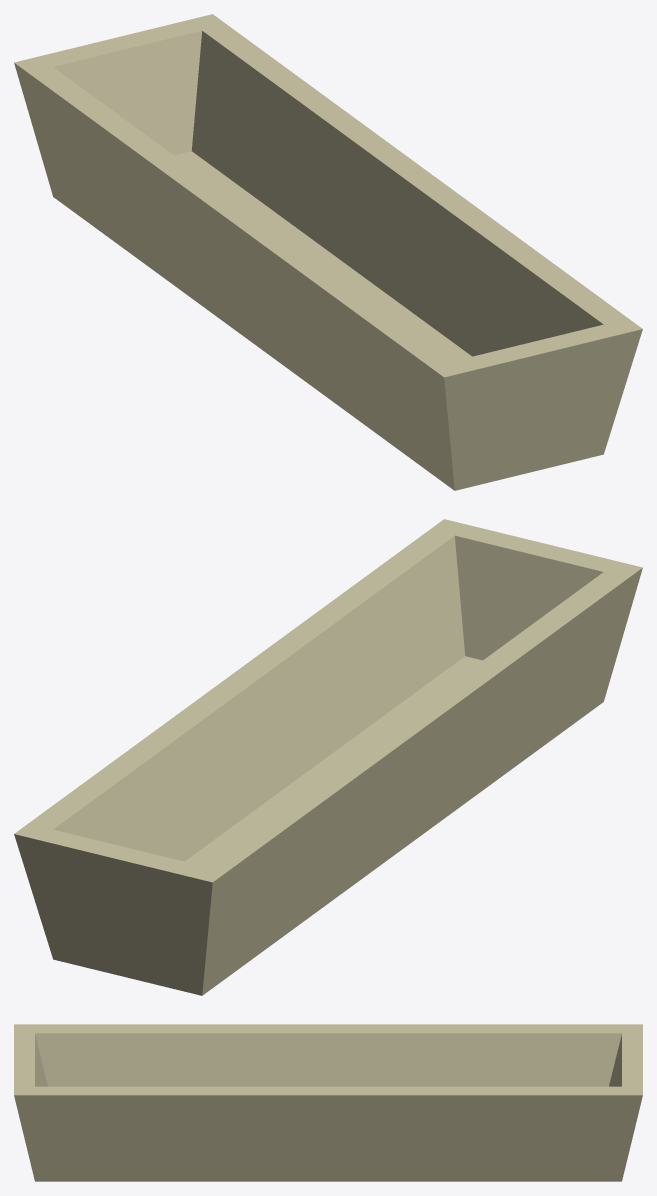
File: Trough.FBX
3 renders of one model, top to bottom at view 1: azimuth 30°, elevation 25°; view 2: azimuth 150°, elevation 25°; view 3: azimuth 270°, elevation 25°, orthographic. The views are drawn at different scales.
Parts seen in each view (by area): view 1: Trough; view 2: Trough; view 3: Trough.
Part boxes in pixels (<box>): Trough: <box>14,14,642,490</box>; Trough: <box>14,519,642,995</box>; Trough: <box>14,1024,642,1181</box>.
Bounding box in the file's own units: 80 × 300 × 50.
